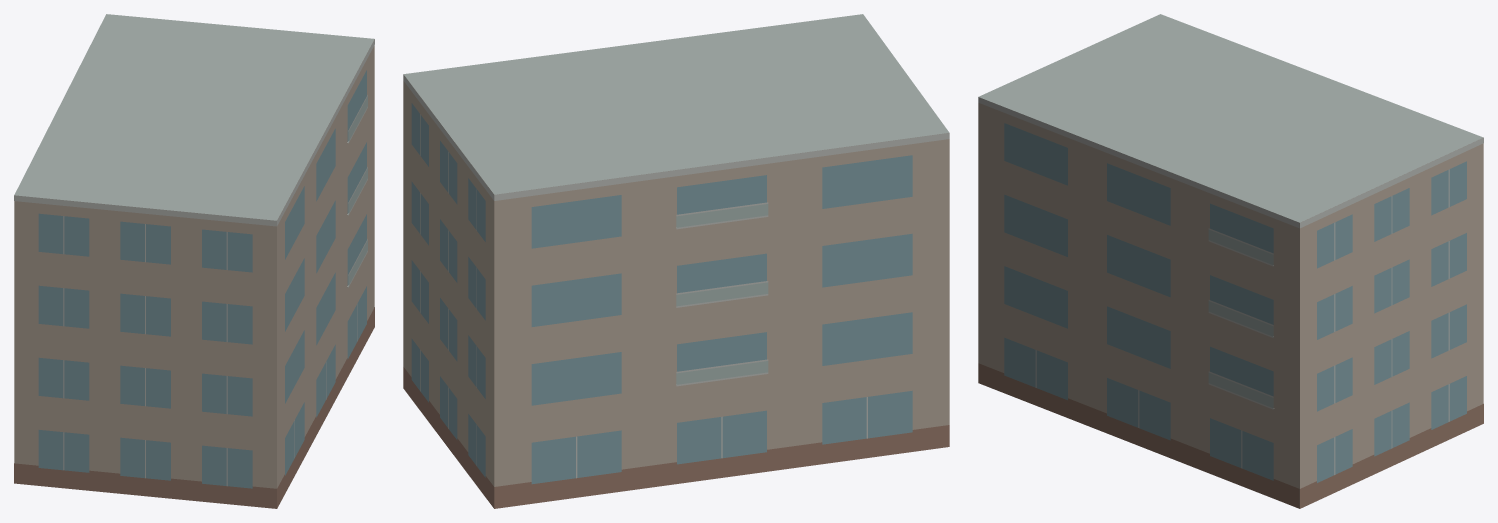
File: survey-upis-32913579.glb
The picture shows the model from 3 angles, left to right: view 1: azimuth 30°, elevation 25°; view 2: azimuth 150°, elevation 25°; view 3: azimuth 270°, elevation 25°; orthographic projection. The views are drawn at different scales.
Parts seen in each view (by area): view 1: survey-upis-32913579.tmp; view 2: survey-upis-32913579.tmp; view 3: survey-upis-32913579.tmp.
Boxes of the visible parts, bbox=[...] form: survey-upis-32913579.tmp: bbox=[14, 14, 374, 508]; survey-upis-32913579.tmp: bbox=[403, 14, 949, 508]; survey-upis-32913579.tmp: bbox=[978, 14, 1483, 508].
Bounding box in the file's own units: 19.1 × 12.2 × 19.54.
